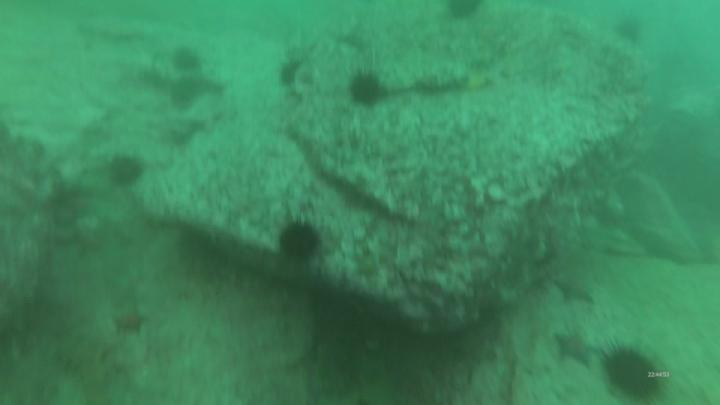echinus: (600, 343, 664, 404), (278, 218, 323, 266), (108, 154, 151, 193), (613, 13, 658, 50), (351, 68, 385, 110), (168, 78, 204, 112), (444, 1, 482, 26), (171, 43, 201, 73), (277, 59, 304, 89)
starfish: (554, 326, 604, 370), (551, 273, 598, 308), (109, 308, 152, 335)
